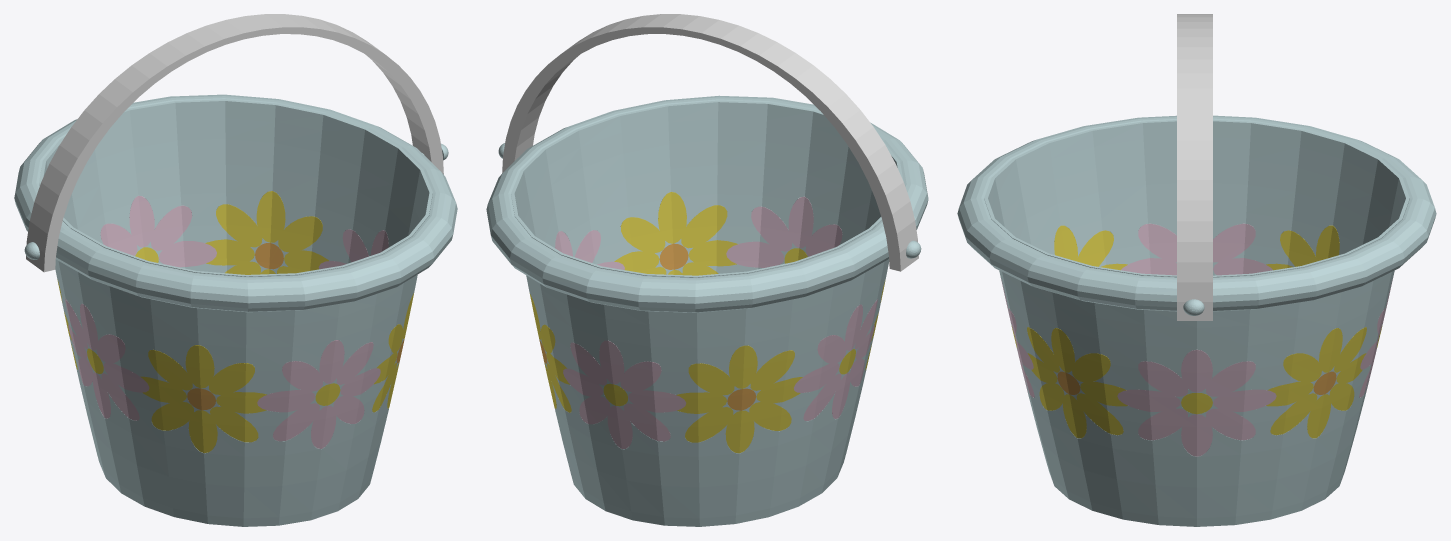
The model's file is bucket.glb.
3 renders of one model, left to right at view 1: azimuth 30°, elevation 25°; view 2: azimuth 150°, elevation 25°; view 3: azimuth 270°, elevation 25°, orthographic.
Parts seen in each view (by area): view 1: Mesh_Mesh_head_geo.001_lambert2SG.001; view 2: Mesh_Mesh_head_geo.001_lambert2SG.001; view 3: Mesh_Mesh_head_geo.001_lambert2SG.001.
Boxes of the visible parts, x1,y1,x2,y2 form: Mesh_Mesh_head_geo.001_lambert2SG.001: (14, 14, 457, 526); Mesh_Mesh_head_geo.001_lambert2SG.001: (486, 14, 928, 526); Mesh_Mesh_head_geo.001_lambert2SG.001: (957, 14, 1436, 526).
Size of the model in its own units: 6 by 6 by 6.01.
